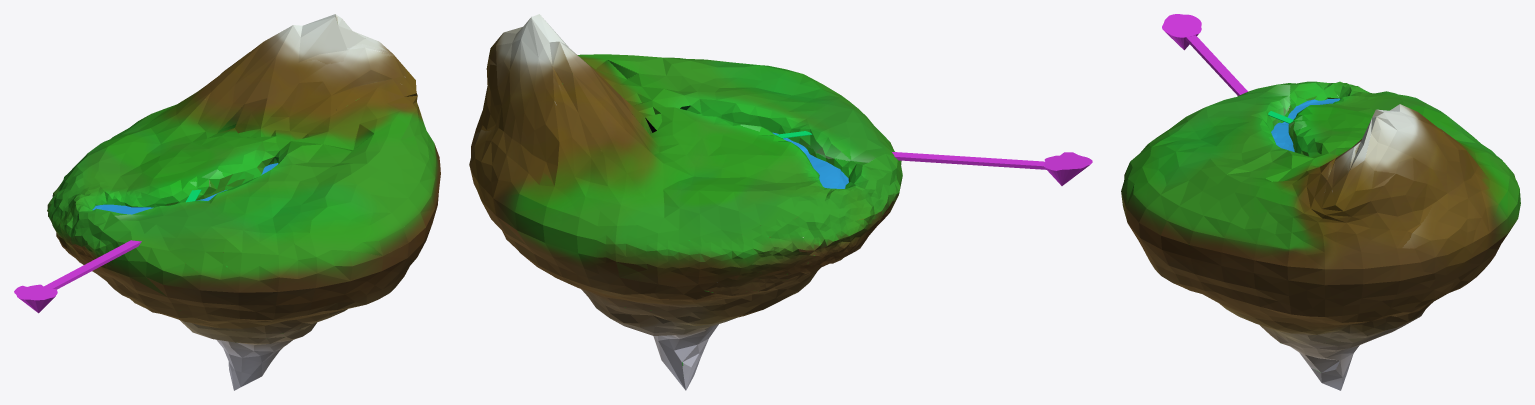
Rendered from forestIsalnd.fbx.
3 renders of one model, left to right at view 1: azimuth 30°, elevation 25°; view 2: azimuth 150°, elevation 25°; view 3: azimuth 270°, elevation 25°, orthographic. The views are drawn at different scales.
Visible parts, largest first — view 1: Sphere, Cube.001, Cone, Plane; view 2: Sphere, Cube.001, Cone, Plane; view 3: Sphere, Cone, Cube.001, Plane.
Part boxes in pixels (x1=…): Sphere: x1=47, y1=14, x2=440, y2=390; Cube.001: x1=44, y1=240, x2=141, y2=289; Cone: x1=14, y1=284, x2=57, y2=313; Plane: x1=92, y1=163, x2=278, y2=214; Sphere: x1=469, y1=14, x2=902, y2=390; Cube.001: x1=892, y1=152, x2=1046, y2=169; Cone: x1=1044, y1=152, x2=1092, y2=185; Plane: x1=772, y1=132, x2=848, y2=188; Sphere: x1=1121, y1=81, x2=1520, y2=390; Cone: x1=1162, y1=14, x2=1201, y2=50; Cube.001: x1=1185, y1=35, x2=1247, y2=95; Plane: x1=1271, y1=98, x2=1340, y2=151.
Size of what is drawn, in the model's own units: 4861 by 3220 by 3424.
